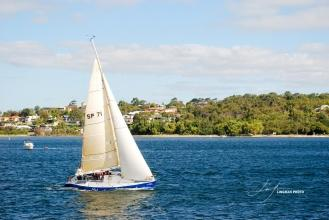fanchuan: (64, 51, 163, 192)
otherboat: (18, 136, 39, 154)
